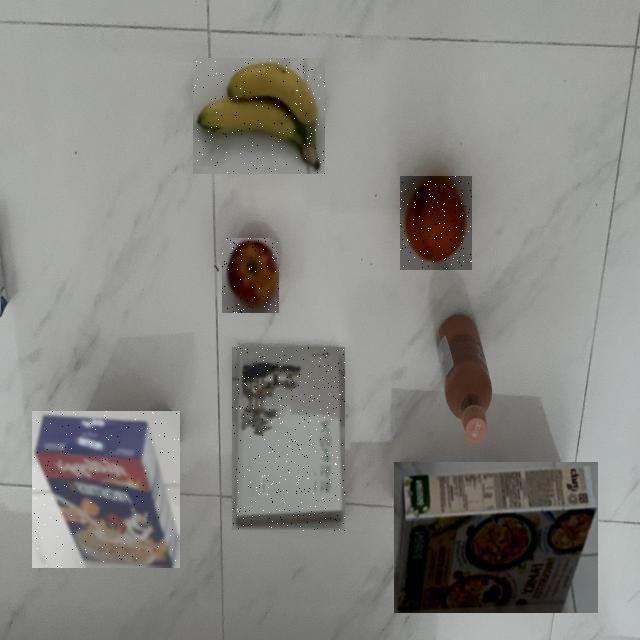apple: (82, 156, 362, 470)
banana: (31, 88, 356, 262)
orange: (164, 136, 636, 407)
